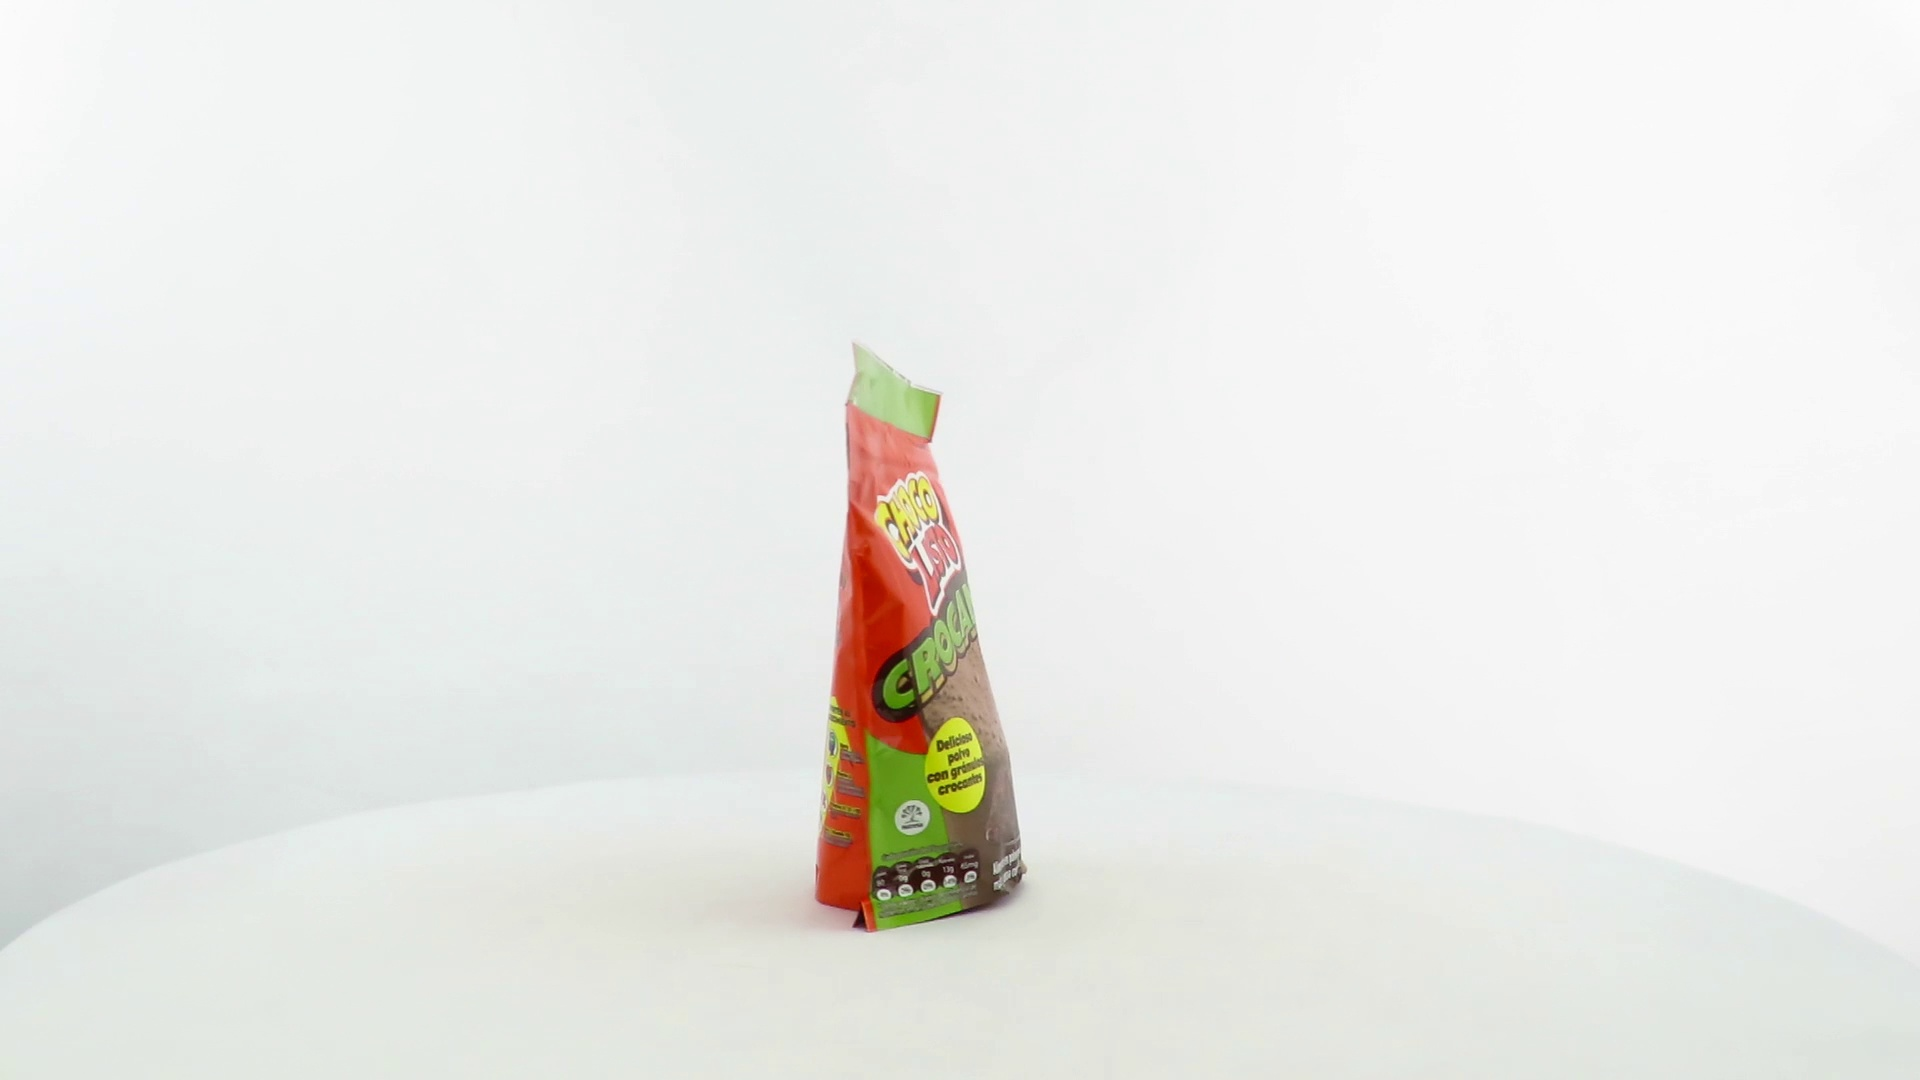COL0170102DYP10000: (808, 332, 1033, 939)
